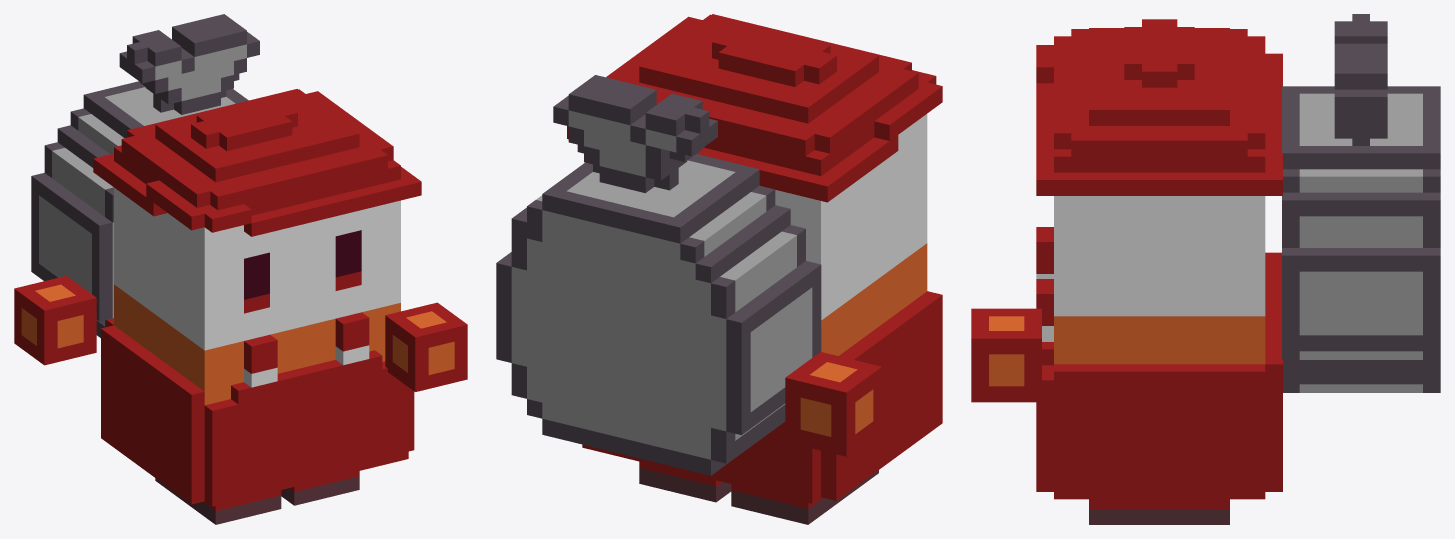
Rendered from p4TrashHoldGrab.gltf.
The picture shows the model from 3 angles, left to right: view 1: azimuth 30°, elevation 25°; view 2: azimuth 150°, elevation 25°; view 3: azimuth 270°, elevation 25°; orthographic projection. The views are drawn at different scales.
Parts seen in each view (by area): view 1: Object_0.001, Object_0.002, Object_0, Object_0.004; view 2: Object_0.002, Object_0.001, Object_0; view 3: Object_0.001, Object_0.002, Object_0.004.
Part boxes in pixels (x1=…): Object_0.001: x1=93, y1=89, x2=421, y2=524; Object_0.002: x1=31, y1=14, x2=259, y2=337; Object_0: x1=14, y1=276, x2=96, y2=365; Object_0.004: x1=385, y1=302, x2=467, y2=391; Object_0.002: x1=496, y1=75, x2=821, y2=475; Object_0.001: x1=567, y1=14, x2=942, y2=524; Object_0: x1=785, y1=352, x2=881, y2=456; Object_0.001: x1=1036, y1=19, x2=1282, y2=524; Object_0.002: x1=1282, y1=14, x2=1440, y2=392; Object_0.004: x1=971, y1=308, x2=1041, y2=402.
Bounding box in the file's own units: 2.2 × 2.8 × 2.66.
Materials: 4 (4 with a texture image).
